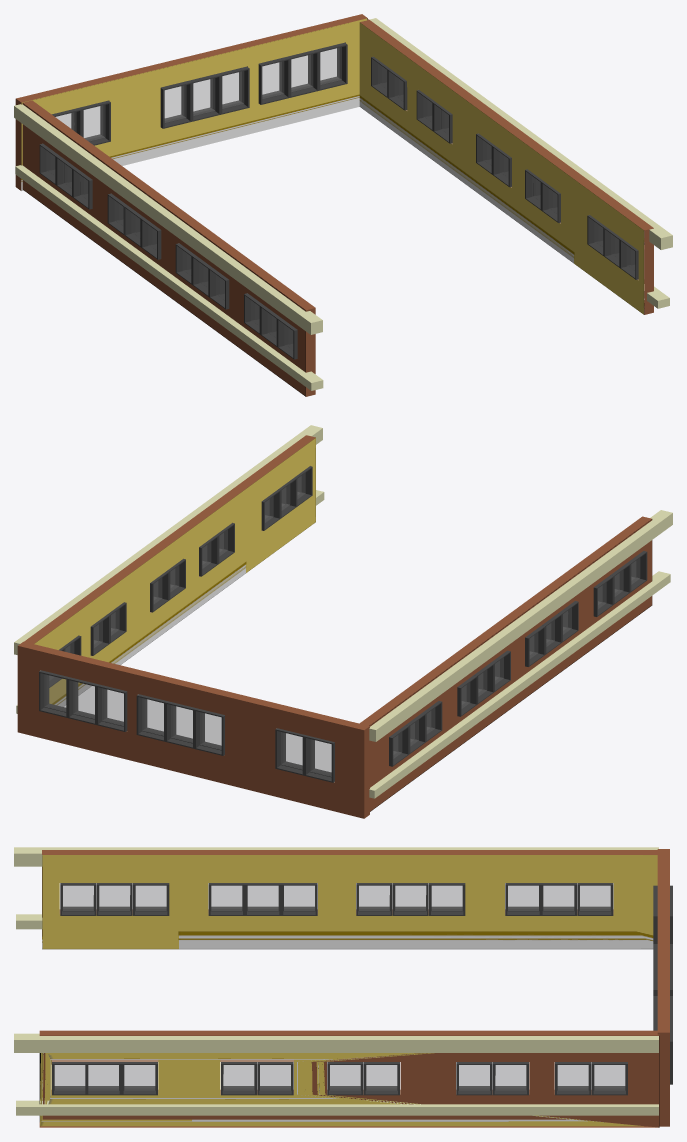
File: School Second Floor Wall.fbx
3 views of the same model, one above another, from view 1: azimuth 30°, elevation 25°; view 2: azimuth 150°, elevation 25°; view 3: azimuth 270°, elevation 25° (orthographic). The views are drawn at different scales.
Visible parts, largest first — view 1: Combined_Second_Floor; view 2: Combined_Second_Floor; view 3: Combined_Second_Floor.
Boxes of the visible parts, x1=… form: Combined_Second_Floor: x1=14, y1=14, x2=672, y2=396; Combined_Second_Floor: x1=14, y1=425, x2=672, y2=818; Combined_Second_Floor: x1=14, y1=847, x2=672, y2=1127.
Bounding box in the file's own units: 2575 × 602 × 3736.
5 materials, 1 textured.
